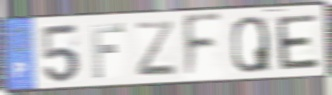5: (39, 22, 82, 85)
E: (274, 12, 321, 72)
F: (182, 11, 224, 82), (89, 22, 126, 80)
Q: (230, 14, 272, 74)
Z: (133, 19, 179, 78)
